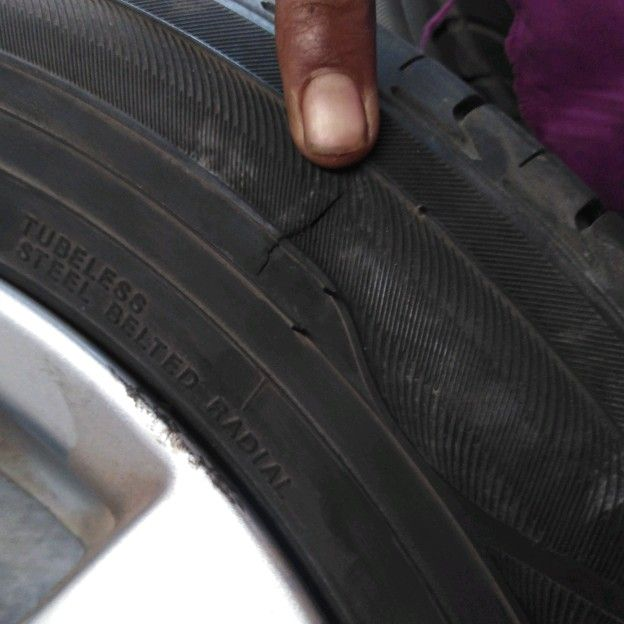cut: (254, 177, 356, 277)
